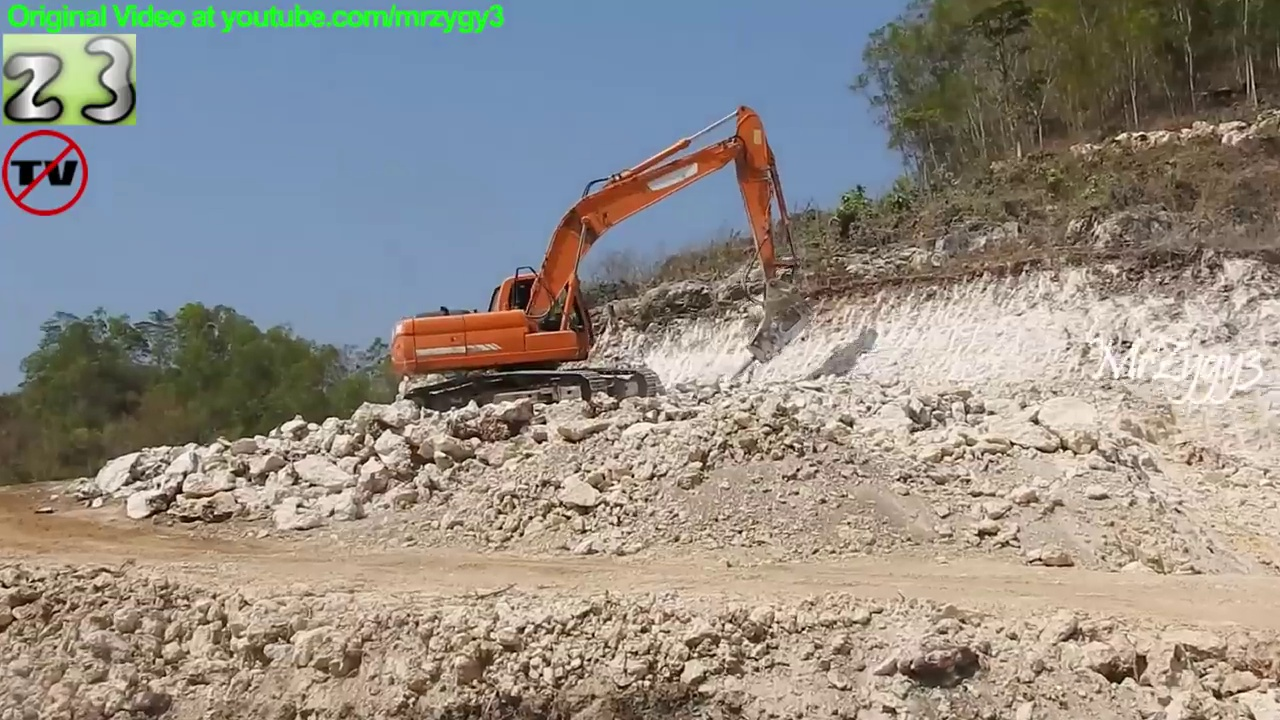excavator breaker: (389, 102, 813, 423)
